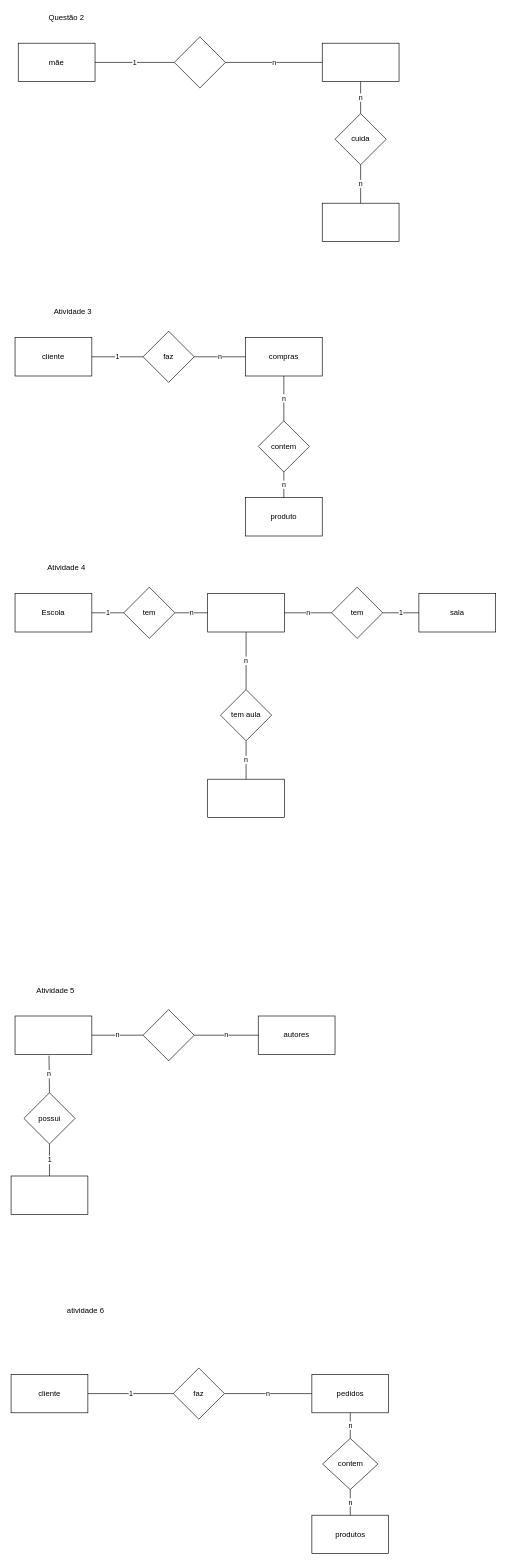
This 508x1565 diagram has some shape labels left out. Each missing label, with the centre of its shape:
"bebe" goes at point (360, 62).
"categoria" goes at point (49, 1194).
"escrito" goes at point (168, 1035).
"livro" goes at point (53, 1034).
"medicos" goes at point (360, 222).
"parto" goes at point (199, 62).
"professores" goes at point (245, 798).
"turmas" goes at point (245, 612).
